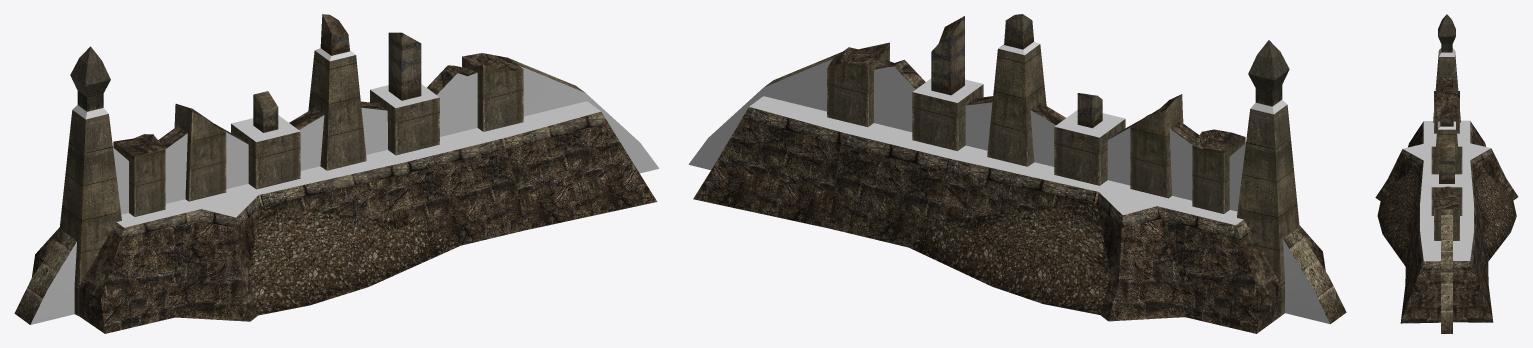
The picture shows the model from 3 angles, left to right: view 1: azimuth 30°, elevation 25°; view 2: azimuth 150°, elevation 25°; view 3: azimuth 270°, elevation 25°; orthographic projection. The views are drawn at different scales.
Parts seen in each view (by area): view 1: Elements_Labirint_02; view 2: Elements_Labirint_02; view 3: Elements_Labirint_02.
Boxes of the visible parts, <box> form: Elements_Labirint_02: <box>14,14,659,333</box>; Elements_Labirint_02: <box>688,14,1346,333</box>; Elements_Labirint_02: <box>1375,14,1518,333</box>.
Size of the model in its own units: 1872 by 610 by 725.
